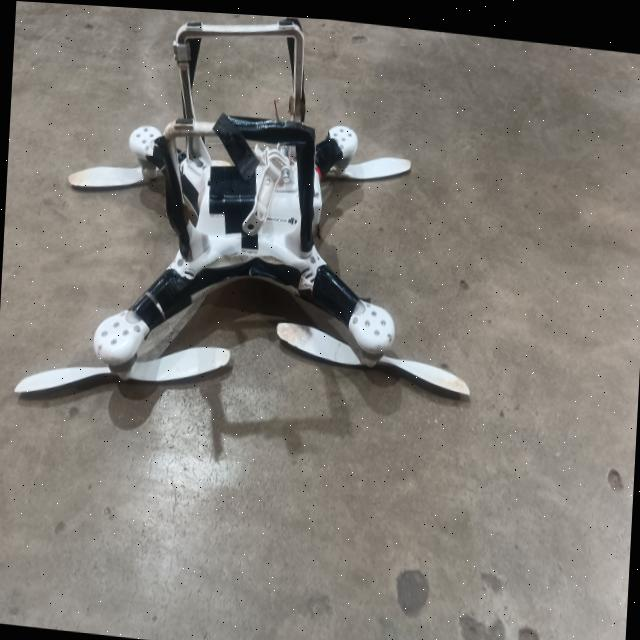drone: (0, 0, 514, 513)
